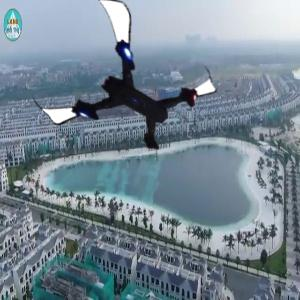drone: (42, 13, 199, 170)
